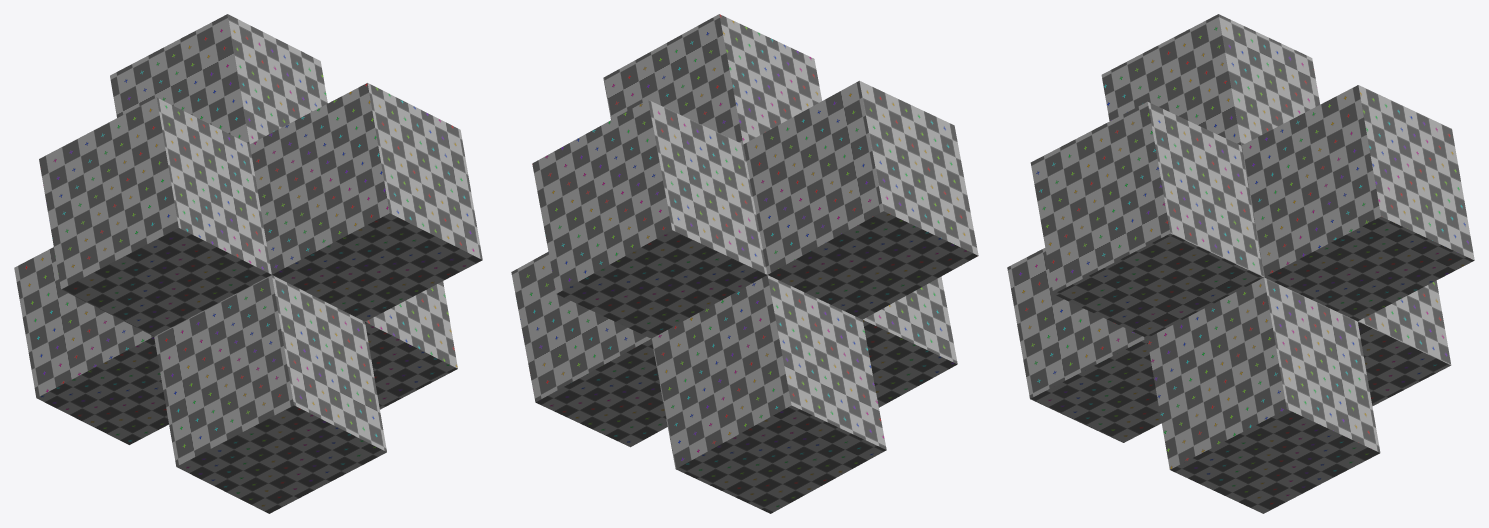
The model's file is testobject.obj.
3 views of the same model, side by side, from view 1: azimuth 30°, elevation 25°; view 2: azimuth 150°, elevation 25°; view 3: azimuth 270°, elevation 25° (orthographic).
Parts seen in each view (by area): view 1: mine; view 2: mine; view 3: mine.
Part boxes in pixels (bbox=[...]): mine: bbox=[14, 14, 482, 513]; mine: bbox=[511, 14, 978, 513]; mine: bbox=[1007, 14, 1474, 513].
Size of the model in its own units: 3.84 by 3.49 by 3.7.
1 material, 1 textured.
